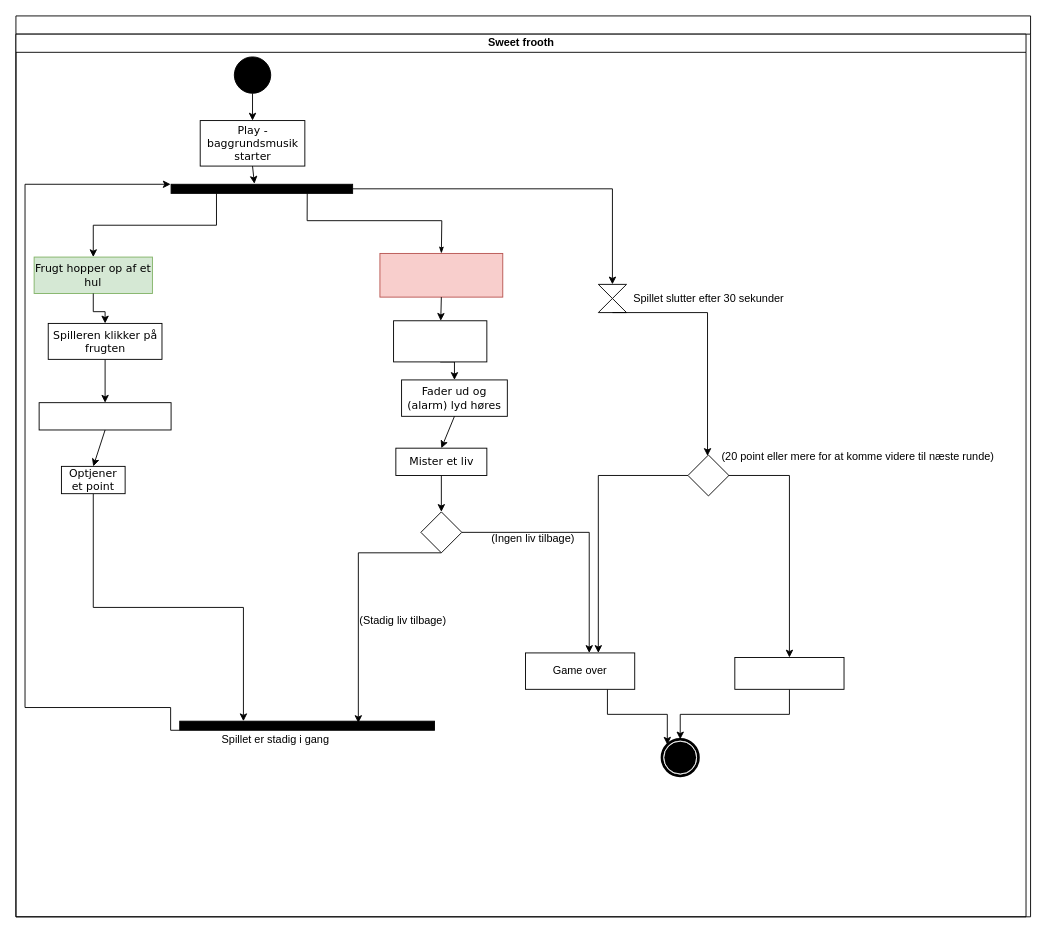
This 1047x933 diagram has some shape labels left out. Here are the shapes that lost their labels. From the top down, the centre of each, then its label:
[441,275]: Grønsager hopper op af et hul
[440,341]: Spilleren klikker på grønsag
[104,416]: Fader ud og en "glad" lyd høres "yaay!"
[789,673]: Level complete
